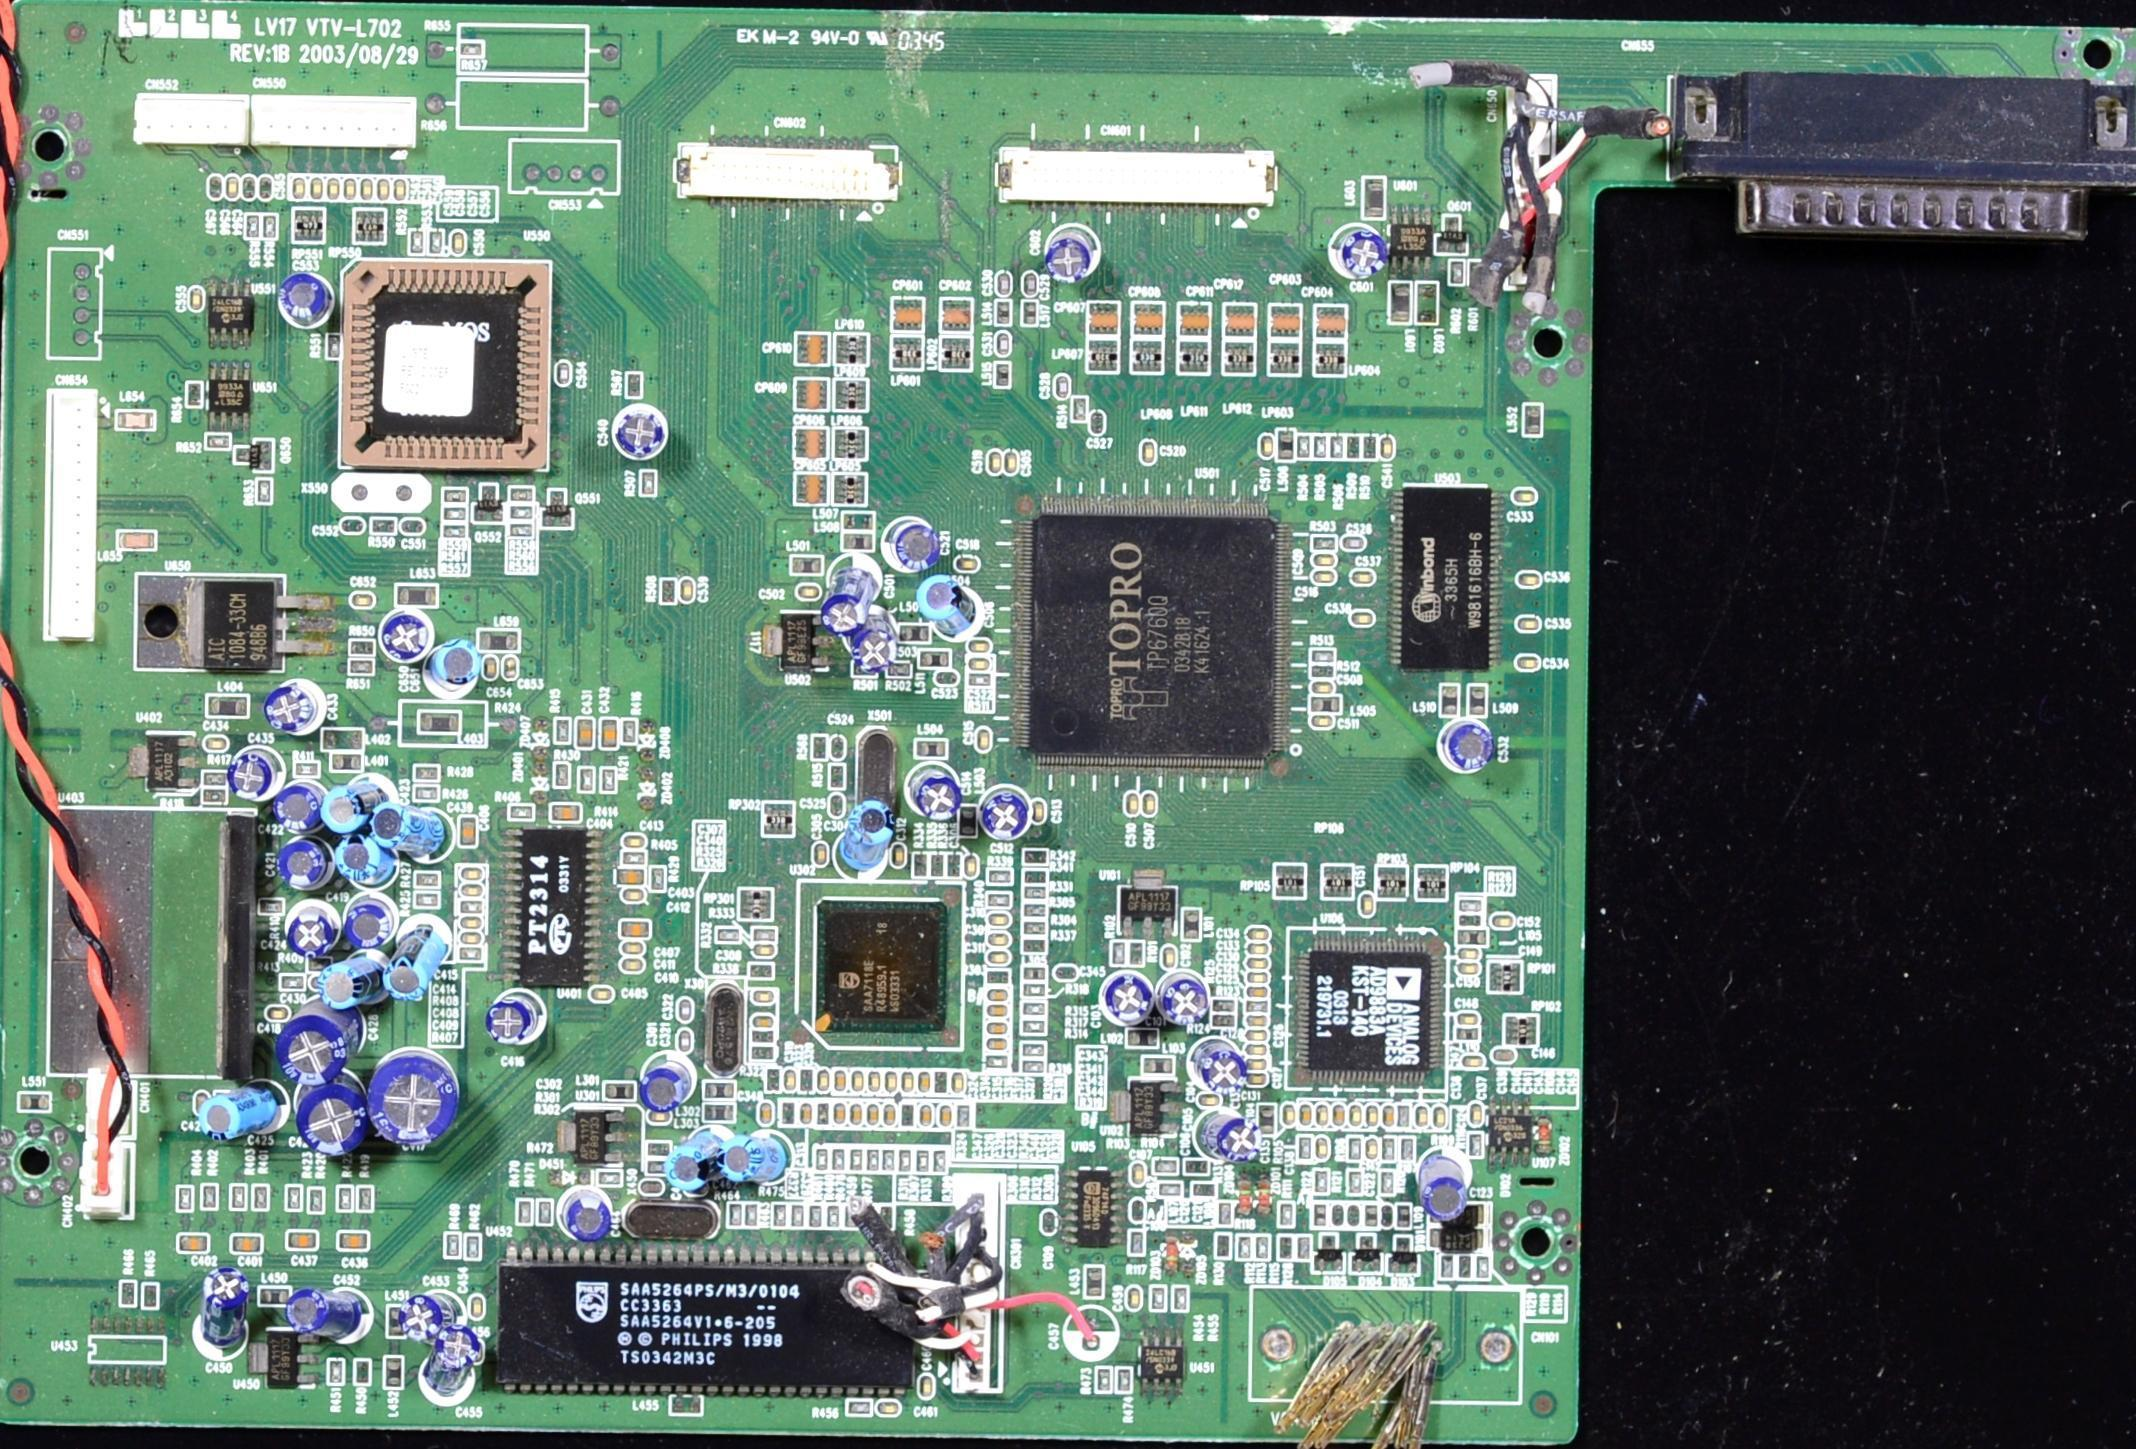Capacitor: (986, 140, 1289, 210), (368, 1042, 464, 1151), (283, 1088, 388, 1163), (184, 1261, 254, 1368), (315, 771, 421, 836), (262, 1016, 366, 1079), (182, 1085, 287, 1145), (421, 1327, 496, 1406), (386, 927, 463, 1005), (1325, 219, 1394, 291), (560, 1183, 627, 1258), (321, 954, 399, 1018), (600, 406, 689, 459), (368, 608, 441, 673), (1034, 227, 1112, 284), (973, 777, 1040, 844), (628, 1059, 701, 1119), (1429, 723, 1512, 776), (901, 767, 972, 828), (836, 803, 908, 864), (478, 989, 545, 1054), (371, 797, 439, 860), (423, 628, 486, 694), (260, 685, 339, 737), (222, 753, 295, 809), (330, 832, 396, 886), (340, 898, 407, 948), (280, 902, 341, 957), (403, 1286, 463, 1341), (282, 911, 341, 964), (274, 774, 330, 829), (276, 845, 334, 893), (332, 1225, 383, 1261), (225, 1223, 269, 1258), (282, 1226, 329, 1258), (342, 579, 385, 615), (610, 917, 669, 942), (1132, 439, 1170, 474), (176, 1228, 222, 1257), (1510, 567, 1555, 596), (1503, 482, 1542, 515), (1339, 525, 1377, 556), (454, 807, 482, 849), (597, 712, 622, 756), (917, 1366, 944, 1407), (584, 976, 620, 1007), (1119, 1281, 1148, 1318), (331, 516, 371, 543), (874, 1390, 908, 1422), (200, 725, 235, 755), (555, 357, 584, 393), (1430, 1104, 1461, 1136), (393, 514, 427, 544), (287, 172, 313, 207), (1516, 610, 1554, 635), (573, 716, 596, 756), (202, 174, 230, 208), (182, 285, 209, 320), (455, 41, 495, 63), (1252, 434, 1279, 465), (968, 723, 996, 756), (980, 445, 1006, 478), (1513, 651, 1547, 677), (1487, 908, 1522, 933), (672, 1026, 702, 1055), (989, 329, 1019, 358), (993, 263, 1015, 301), (1088, 402, 1111, 440), (1489, 1046, 1528, 1067), (454, 863, 493, 884), (1051, 369, 1075, 401), (929, 669, 962, 694), (979, 1034, 1016, 1054), (1193, 1087, 1227, 1109), (1126, 1161, 1153, 1188), (807, 841, 834, 868), (481, 654, 506, 682), (453, 928, 491, 947), (1347, 566, 1383, 587), (613, 868, 649, 889), (1159, 940, 1184, 970), (619, 957, 656, 977), (749, 1012, 782, 1033), (619, 830, 654, 851), (1450, 959, 1485, 980), (673, 996, 698, 1023), (1347, 605, 1375, 630), (325, 174, 349, 203), (950, 557, 987, 575), (1308, 679, 1343, 699), (1345, 1099, 1367, 1132), (1039, 1204, 1061, 1237), (467, 1291, 489, 1323), (681, 574, 702, 606), (1128, 1196, 1153, 1224), (308, 177, 331, 204), (1119, 790, 1143, 818), (1310, 552, 1343, 571), (798, 1098, 820, 1128), (1020, 269, 1042, 299), (620, 886, 650, 907), (982, 984, 1013, 1004), (750, 986, 781, 1007), (1308, 572, 1343, 590), (1306, 714, 1342, 733), (980, 933, 1016, 951), (849, 1102, 873, 1127), (791, 580, 823, 600), (885, 1069, 907, 1096), (862, 1102, 885, 1129), (754, 1103, 776, 1130), (917, 1103, 940, 1130), (1415, 1103, 1438, 1131), (1453, 1007, 1482, 1029), (851, 1067, 871, 1096), (1334, 1100, 1355, 1129), (999, 449, 1021, 479), (889, 839, 911, 869), (1242, 922, 1275, 940), (1298, 1101, 1319, 1128), (1466, 1101, 1487, 1129), (501, 652, 522, 680), (1032, 799, 1053, 827), (965, 635, 997, 653), (264, 1004, 292, 1023), (1315, 1102, 1334, 1130), (1454, 943, 1483, 962), (962, 654, 996, 669), (864, 1070, 885, 1096), (453, 229, 474, 256), (1143, 791, 1165, 817), (815, 1069, 835, 1097), (883, 1102, 902, 1128), (1279, 1102, 1299, 1128), (830, 735, 849, 762), (983, 950, 1011, 968), (1379, 433, 1396, 466), (963, 849, 980, 881), (616, 941, 649, 957), (258, 174, 276, 203), (360, 175, 379, 204), (456, 914, 491, 929), (342, 178, 363, 203), (983, 1001, 1014, 1018), (1378, 1203, 1396, 1231), (831, 1103, 852, 1126), (1381, 1104, 1401, 1129), (392, 177, 411, 201), (1246, 983, 1275, 999), (834, 1069, 852, 1095), (900, 1069, 919, 1095), (1367, 1103, 1384, 1129), (224, 170, 238, 205), (1241, 940, 1275, 953), (1242, 1042, 1272, 1056), (242, 174, 259, 202), (1245, 970, 1273, 986), (951, 1069, 969, 1094), (987, 1022, 1015, 1037), (1244, 954, 1272, 969), (1245, 1071, 1271, 1087), (1364, 1136, 1381, 1161), (986, 912, 1012, 929), (919, 1071, 937, 1093), (938, 1104, 956, 1127), (1331, 1203, 1349, 1226), (456, 884, 491, 896), (376, 174, 390, 205), (1245, 1055, 1269, 1071), (1243, 1012, 1269, 1027), (1461, 1054, 1485, 1070), (1346, 1204, 1362, 1227), (1245, 1028, 1273, 1042), (1316, 1137, 1330, 1161), (751, 944, 779, 956)
Connector: (665, 127, 914, 221), (32, 385, 110, 650), (253, 88, 441, 157), (31, 247, 124, 368), (500, 131, 644, 208), (126, 92, 251, 152)
IC: (1009, 498, 1299, 781), (333, 256, 554, 471), (799, 881, 953, 1045), (1387, 483, 1507, 681), (134, 569, 292, 678), (502, 825, 603, 989), (254, 1309, 321, 1396), (763, 610, 840, 685), (129, 731, 208, 801), (79, 1331, 175, 1381), (1068, 1165, 1118, 1248), (1385, 205, 1442, 275), (559, 1105, 624, 1163), (1121, 1076, 1181, 1136), (203, 288, 256, 344), (205, 376, 260, 428), (1484, 1109, 1531, 1161)
Resistor: (313, 329, 353, 367), (636, 465, 673, 500), (835, 1395, 880, 1423), (1439, 256, 1469, 296), (244, 476, 276, 511), (621, 710, 647, 750), (1090, 1362, 1119, 1398), (254, 891, 291, 919), (194, 431, 237, 454), (510, 1191, 535, 1227), (340, 659, 381, 681), (172, 1181, 200, 1213), (552, 716, 580, 749), (1113, 1366, 1140, 1401), (743, 1039, 781, 1062), (1251, 1231, 1275, 1268), (304, 1182, 331, 1215), (344, 636, 386, 657), (227, 1181, 252, 1214), (441, 1227, 467, 1262), (115, 1279, 141, 1313), (624, 366, 650, 399), (578, 765, 603, 799), (354, 1181, 379, 1216), (197, 1179, 219, 1219), (592, 1169, 635, 1189), (883, 657, 914, 684), (1145, 1282, 1171, 1314), (1169, 1282, 1194, 1316), (351, 1354, 375, 1388), (805, 730, 829, 763), (655, 574, 677, 610), (1454, 894, 1490, 917), (1339, 1170, 1367, 1198), (369, 513, 396, 542), (550, 760, 576, 790), (335, 1183, 359, 1216), (1020, 844, 1057, 866), (1127, 1227, 1150, 1262), (183, 376, 203, 412), (749, 922, 785, 943), (276, 971, 312, 991), (281, 1184, 306, 1214), (1278, 1201, 1301, 1232), (535, 1195, 558, 1227), (1214, 1233, 1237, 1264), (140, 1280, 164, 1311), (327, 1359, 350, 1390), (745, 956, 777, 978), (505, 483, 542, 503), (600, 762, 619, 799), (710, 922, 747, 942), (619, 850, 659, 868), (509, 800, 543, 822), (455, 944, 488, 966), (1106, 937, 1131, 966), (507, 518, 539, 540), (747, 1028, 783, 1048), (464, 1229, 484, 1265), (1296, 1231, 1316, 1267), (260, 212, 279, 247), (412, 762, 448, 781), (1019, 902, 1054, 921), (914, 1147, 935, 1179), (1152, 1155, 1184, 1175), (1361, 431, 1382, 464), (827, 762, 851, 789), (289, 761, 327, 779), (1019, 998, 1052, 1017), (1234, 1231, 1253, 1264), (439, 503, 472, 522), (412, 785, 446, 804), (983, 863, 1017, 883), (415, 890, 444, 912), (1455, 1254, 1476, 1284), (649, 864, 669, 895), (438, 486, 473, 505), (1020, 1017, 1052, 1036), (1311, 1168, 1335, 1194), (1020, 937, 1052, 955), (1395, 1099, 1416, 1129), (1327, 433, 1349, 463), (200, 787, 230, 809), (439, 521, 472, 539), (1021, 869, 1054, 887), (455, 898, 489, 916), (243, 212, 262, 242), (988, 890, 1019, 909), (763, 1067, 787, 1092), (1376, 1169, 1399, 1195), (1467, 1130, 1488, 1158), (252, 1183, 273, 1212), (927, 850, 947, 878), (197, 769, 230, 788), (1295, 1133, 1315, 1163), (1295, 434, 1314, 463), (1020, 885, 1054, 901), (1276, 1231, 1294, 1261), (799, 1070, 819, 1096), (881, 1147, 903, 1173), (933, 1149, 954, 1174), (772, 1203, 792, 1229), (1437, 1257, 1459, 1282), (1129, 943, 1149, 969), (1478, 1251, 1494, 1284), (1346, 1135, 1362, 1164), (1343, 434, 1362, 462), (909, 851, 927, 879), (933, 1069, 953, 1095), (868, 1145, 887, 1171), (1020, 1041, 1051, 1058), (1157, 1185, 1188, 1202), (1020, 920, 1051, 936), (412, 872, 446, 886), (944, 850, 962, 878), (1209, 1014, 1238, 1030), (1308, 645, 1340, 660), (900, 1104, 918, 1130), (825, 1203, 843, 1229), (1306, 663, 1342, 676), (744, 1201, 759, 1233), (1212, 997, 1240, 1014), (430, 227, 447, 254), (1312, 431, 1327, 460), (963, 673, 997, 686), (507, 505, 537, 519), (899, 1146, 916, 1172), (789, 1205, 806, 1230), (815, 1146, 834, 1168), (832, 1146, 850, 1170), (408, 231, 425, 254), (984, 1055, 1012, 1069), (1019, 1057, 1046, 1073), (851, 1146, 865, 1174), (1023, 983, 1051, 998), (1454, 913, 1485, 926), (806, 1204, 822, 1228), (1383, 1137, 1397, 1161), (729, 1203, 743, 1228), (1400, 1138, 1417, 1160), (1243, 999, 1273, 1009)
Transistor: (535, 483, 582, 546), (223, 437, 278, 478), (1437, 211, 1475, 257), (472, 479, 502, 533)
